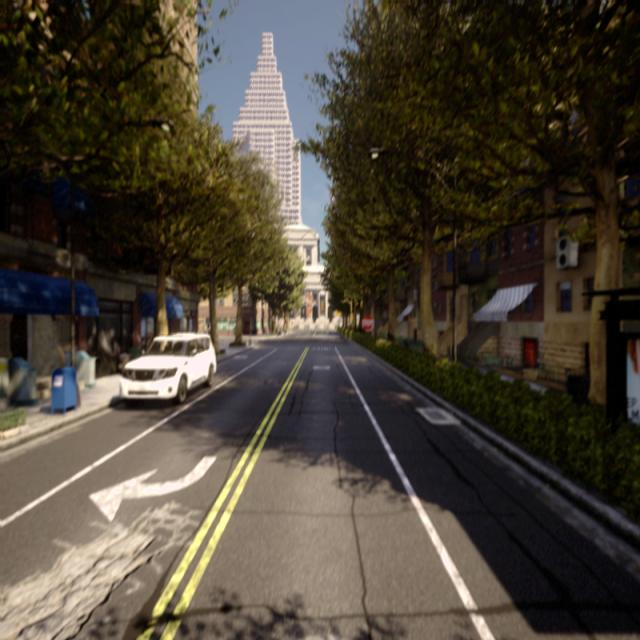stop sign: (358, 311, 376, 334)
